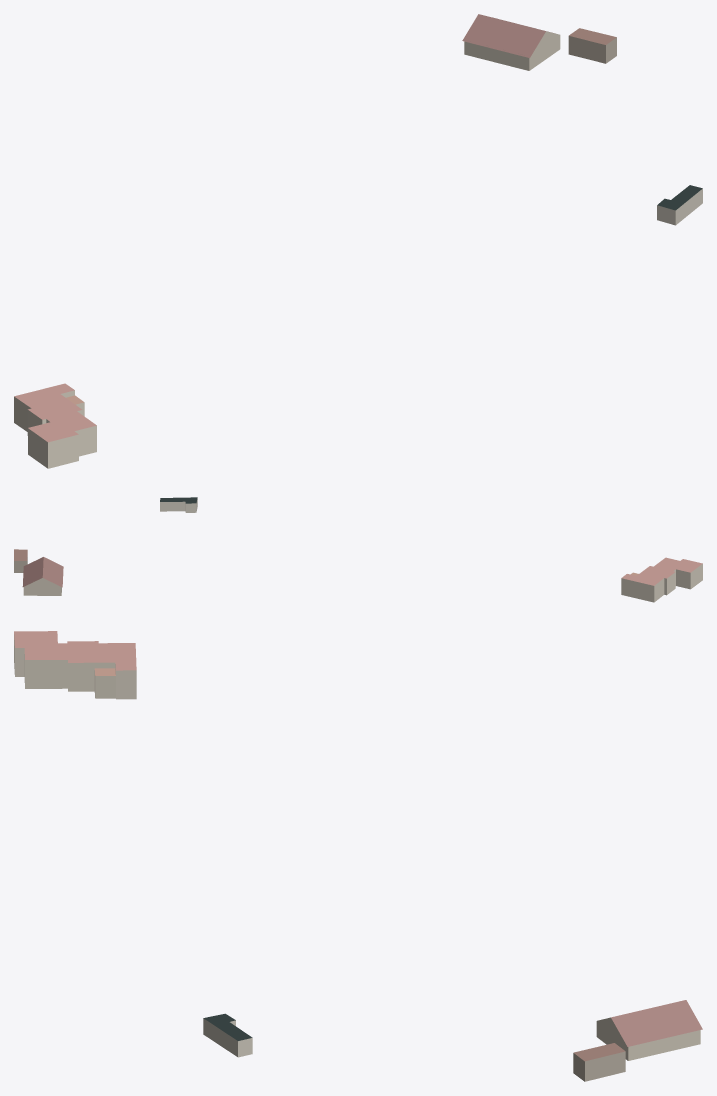
The picture shows the model from 3 angles, top to bottom: view 1: azimuth 30°, elevation 25°; view 2: azimuth 150°, elevation 25°; view 3: azimuth 270°, elevation 25°; orthographic projection. The views are drawn at different scales.
Parts seen in each view (by area): view 1: tuile; view 2: tuile; view 3: tuile.
Boxes of the visible parts, x1=… form: tuile: x1=14, y1=14, x2=702, y2=468; tuile: x1=14, y1=497, x2=702, y2=602; tuile: x1=14, y1=631, x2=702, y2=1081.
Size of the model in its own units: 207 by 11.72 by 137.
